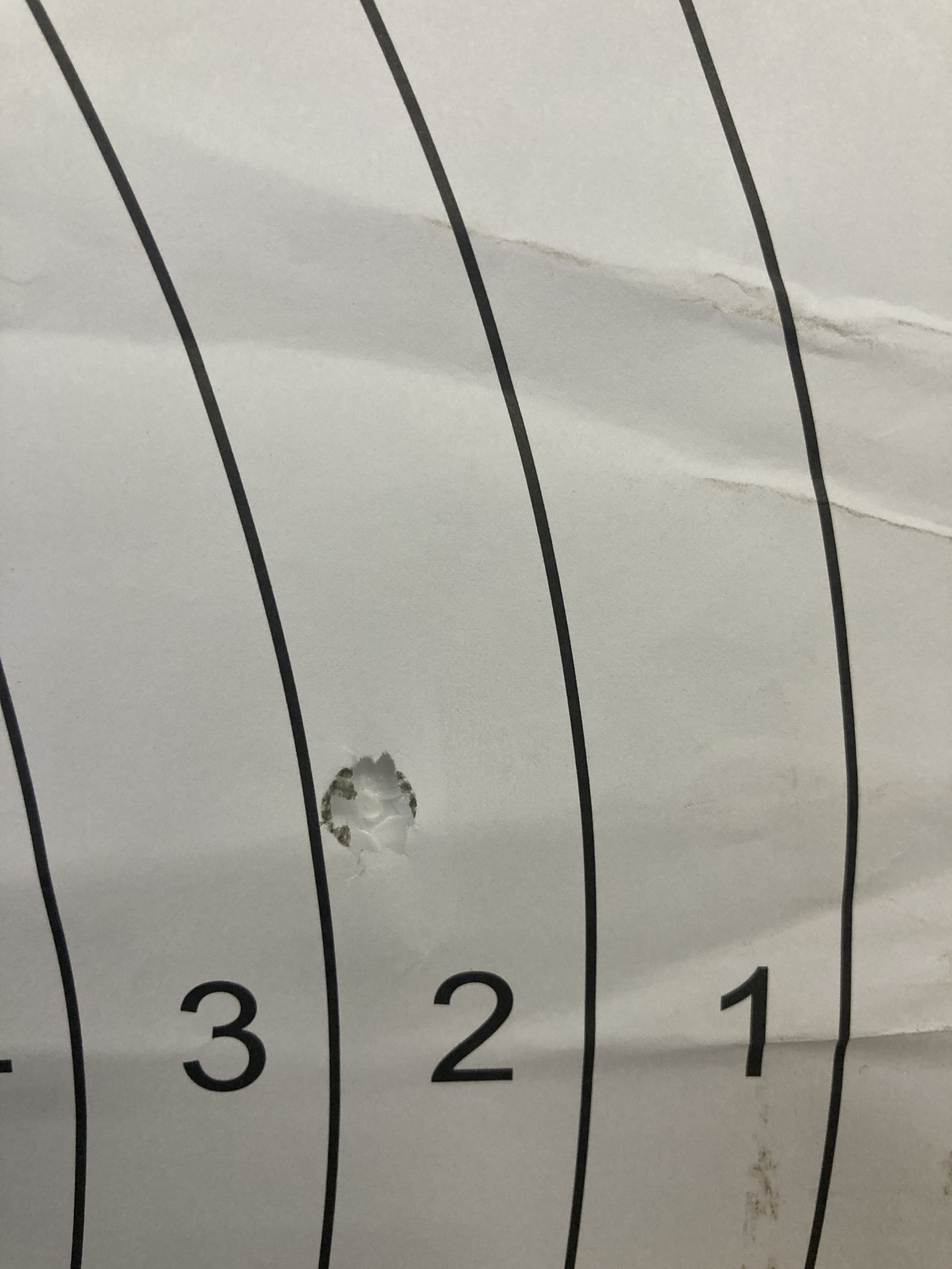hole: (305, 730, 444, 875)
